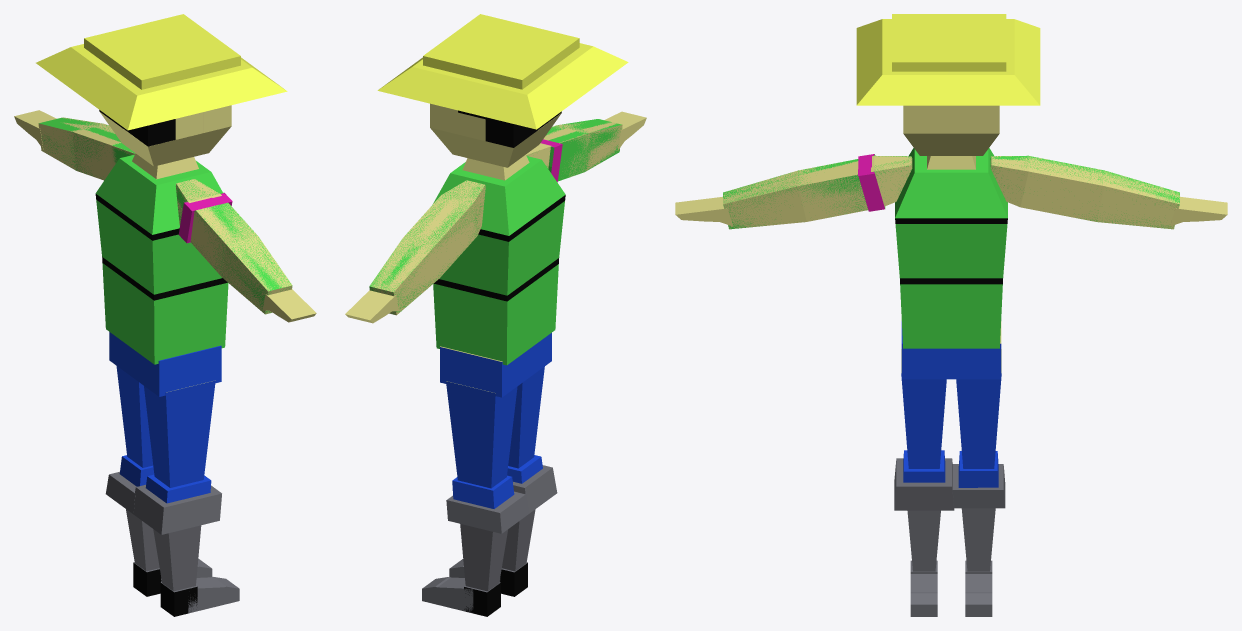
Rendered from CgaracterPoly.fbx.
3 views of the same model, side by side, from view 1: azimuth 30°, elevation 25°; view 2: azimuth 150°, elevation 25°; view 3: azimuth 270°, elevation 25° (orthographic).
Visible parts, largest first — view 1: Cube; view 2: Cube; view 3: Cube.
Part boxes in pixels (box(x1,y1,x2,y2)): Cube: box(14, 14, 316, 616); Cube: box(345, 14, 646, 616); Cube: box(675, 14, 1227, 616).
Bounding box in the file's own units: 325 × 1076 × 978.
